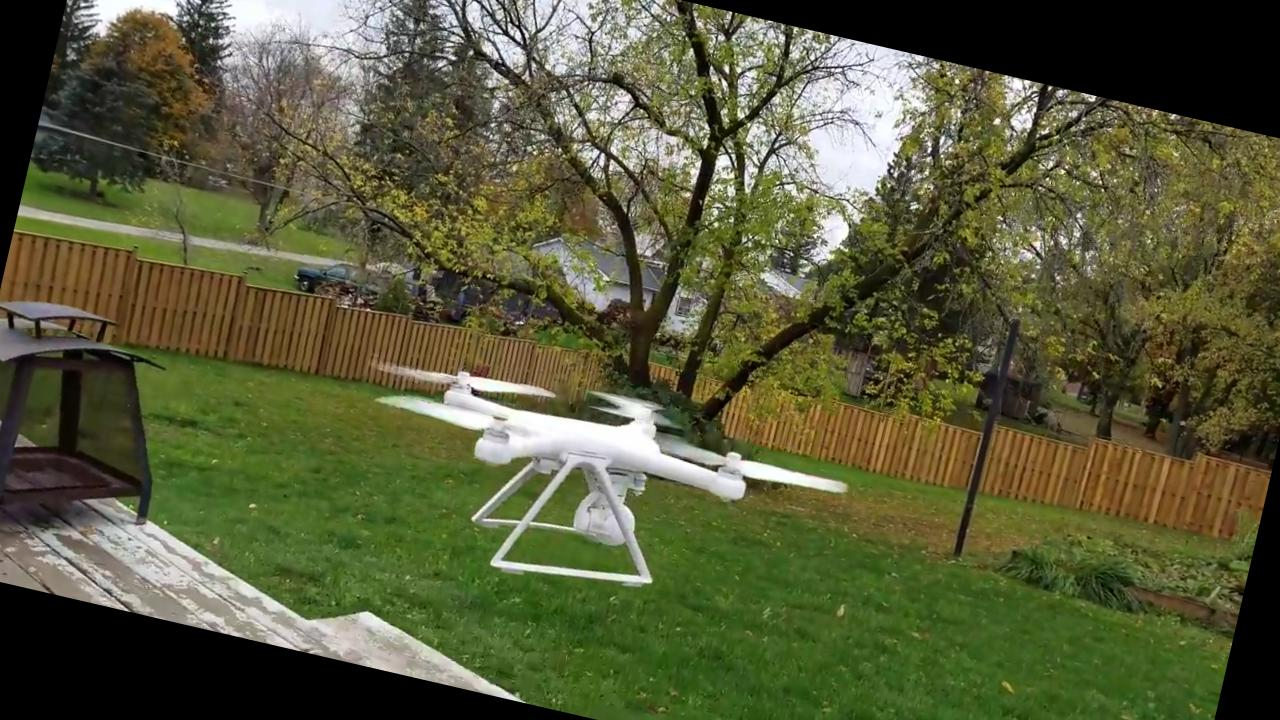drone: (338, 326, 886, 579)
